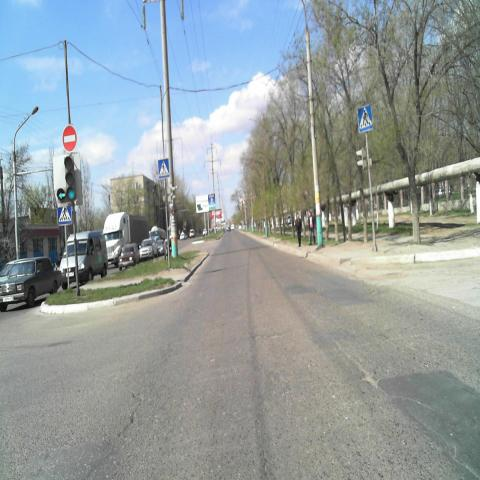3_1: (62, 126, 77, 154)
